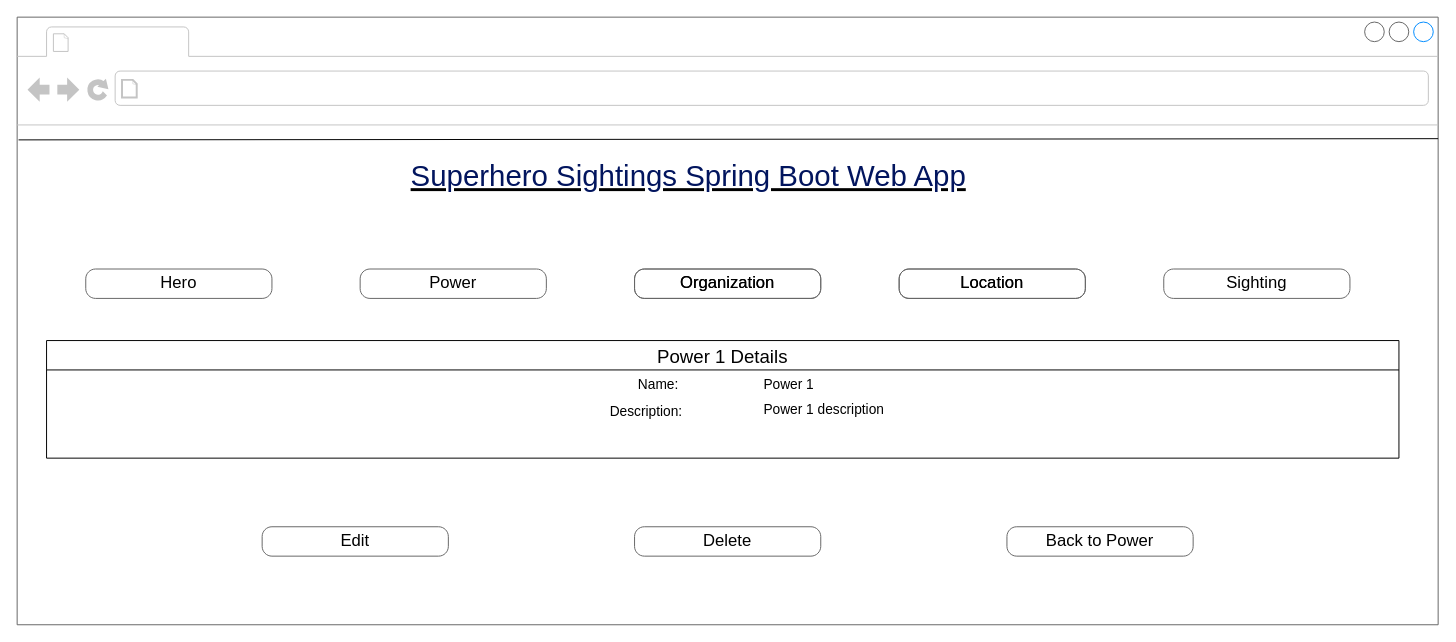
The diagram is 1456 pixels wide and 642 high, and some of its shapes have lost their labels. The shapes that lost their labels are listed below. From the top down, each one's centre as x and y in pixels, then its label:
At [149,41]: "Power Details".
At [267,88]: "https://www.default.com".
